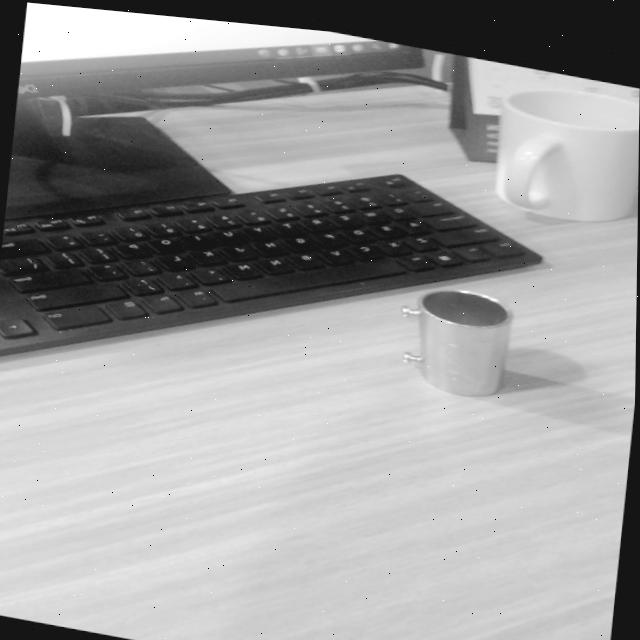Co_Lon: (400, 281, 518, 402)
